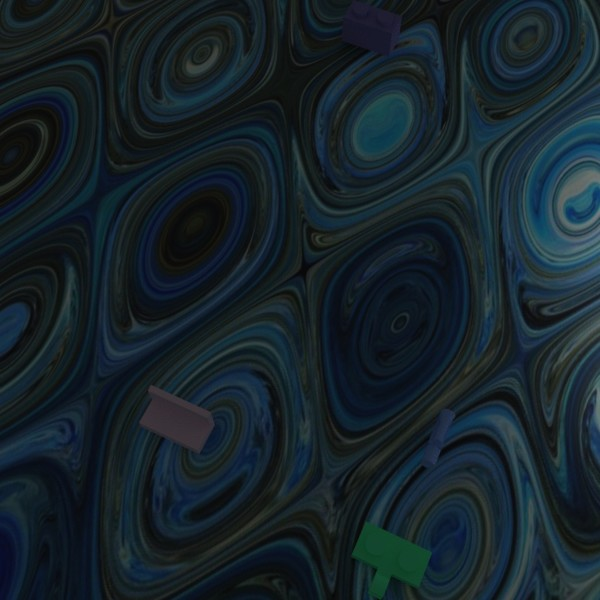lego: (350, 521, 432, 599), (138, 384, 214, 454), (341, 0, 402, 56), (420, 408, 455, 468)
